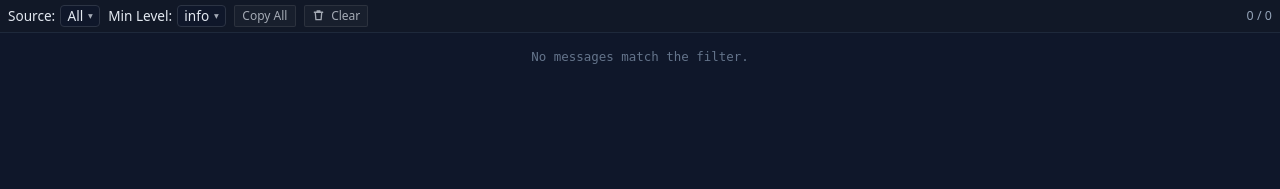
SystemMessagesPanel minimum level › survives the panel closing and reopening
Click the dropdown labelled "info".
click(202, 16)  # box [177,5,226,27]
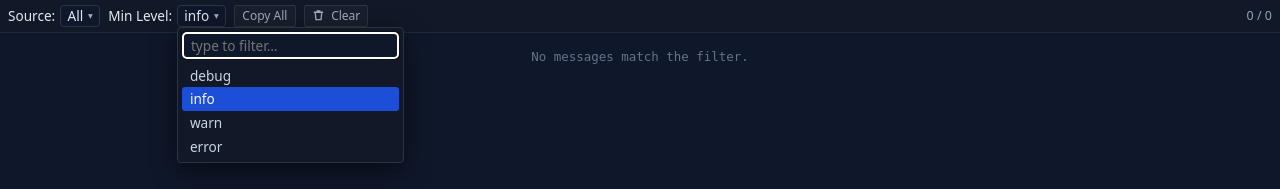
Click the option "debug".
click(210, 75)  # box [190,66,231,85]
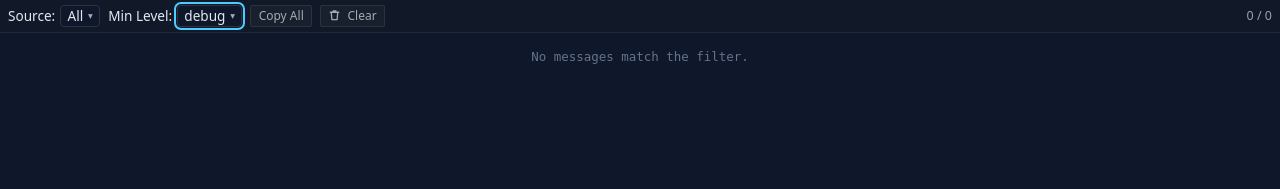
Expected: the text "debug" is shown, [184,6,226,25]
